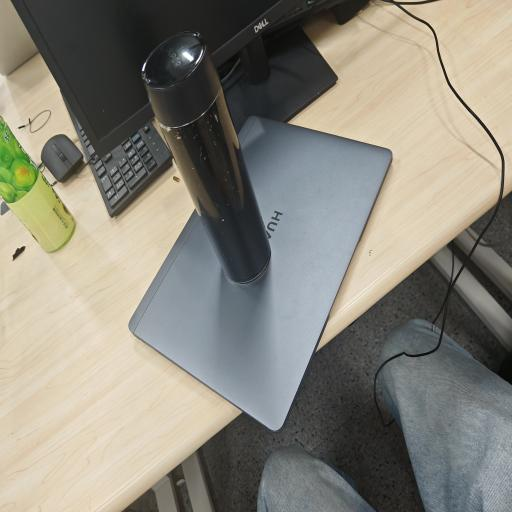laptop: (128, 114, 395, 433)
mouse: (40, 134, 82, 181)
